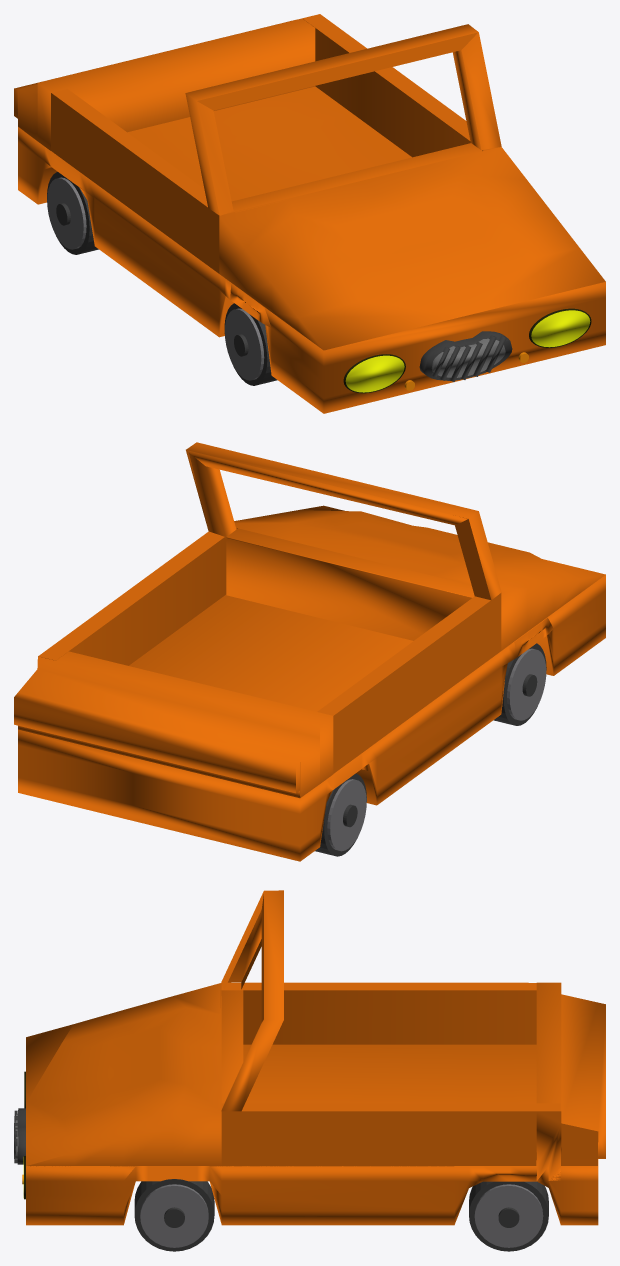
Rendered from Обыная машина 2.fbx.
3 renders of one model, top to bottom at view 1: azimuth 30°, elevation 25°; view 2: azimuth 150°, elevation 25°; view 3: azimuth 270°, elevation 25°, orthographic. The views are drawn at different scales.
Parts seen in each view (by area): view 1: Cube.013; view 2: Cube.013; view 3: Cube.013.
Part boxes in pixels (x1,y1,x2,y2): Cube.013: [14, 14, 605, 413]; Cube.013: [14, 442, 605, 861]; Cube.013: [14, 890, 605, 1251].
Bounding box in the file's own units: 203 × 162 × 376.
